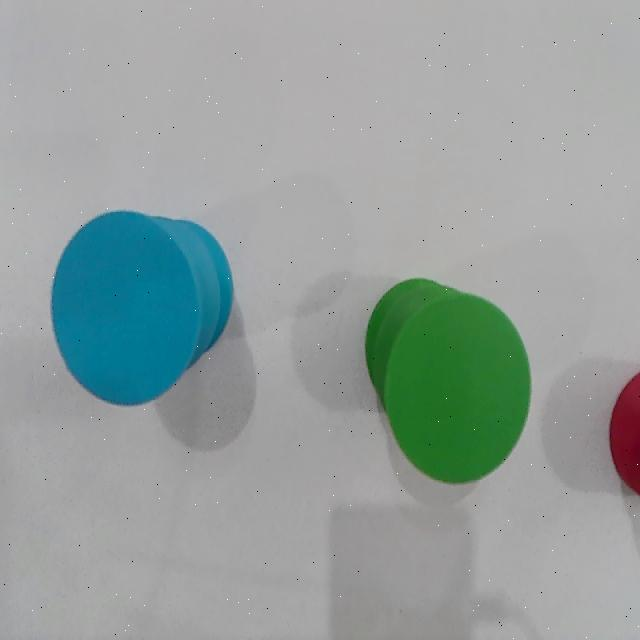b: (52, 209, 200, 406)
g: (384, 292, 531, 484)
